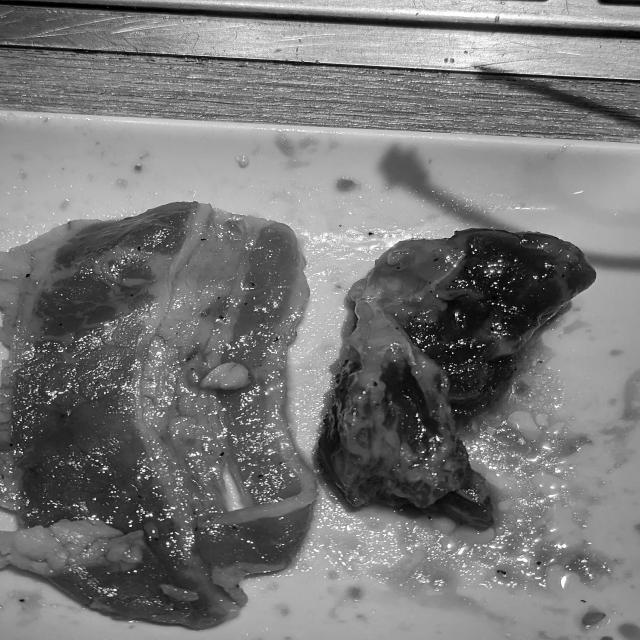NG raw beef,: (0, 197, 334, 637), (305, 220, 611, 540)
